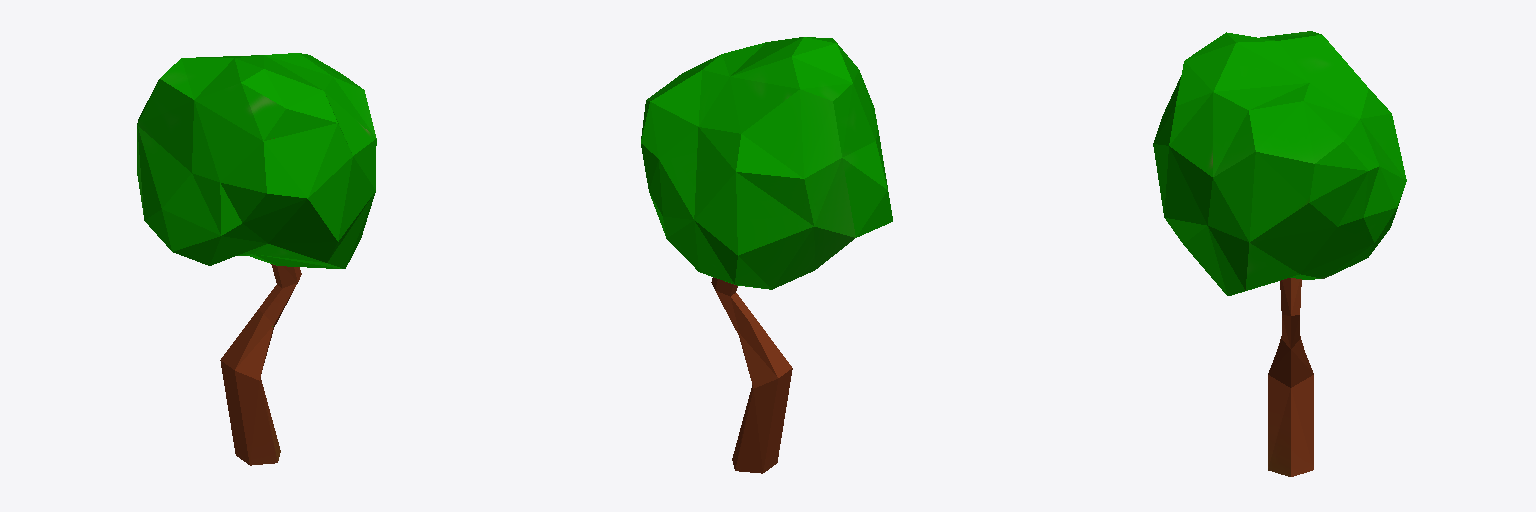
3 renders of one model, left to right at view 1: azimuth 30°, elevation 25°; view 2: azimuth 150°, elevation 25°; view 3: azimuth 270°, elevation 25°, orthographic.
Visible parts, largest first — view 1: Hedra001; view 2: Hedra001; view 3: Hedra001.
Part boxes in pixels (bbox=[...]): Hedra001: bbox=[137, 53, 376, 465]; Hedra001: bbox=[641, 37, 892, 473]; Hedra001: bbox=[1153, 31, 1406, 476].
Size of the model in its own units: 10.64 by 19.62 by 10.93.
Materials: 1 (1 with a texture image).